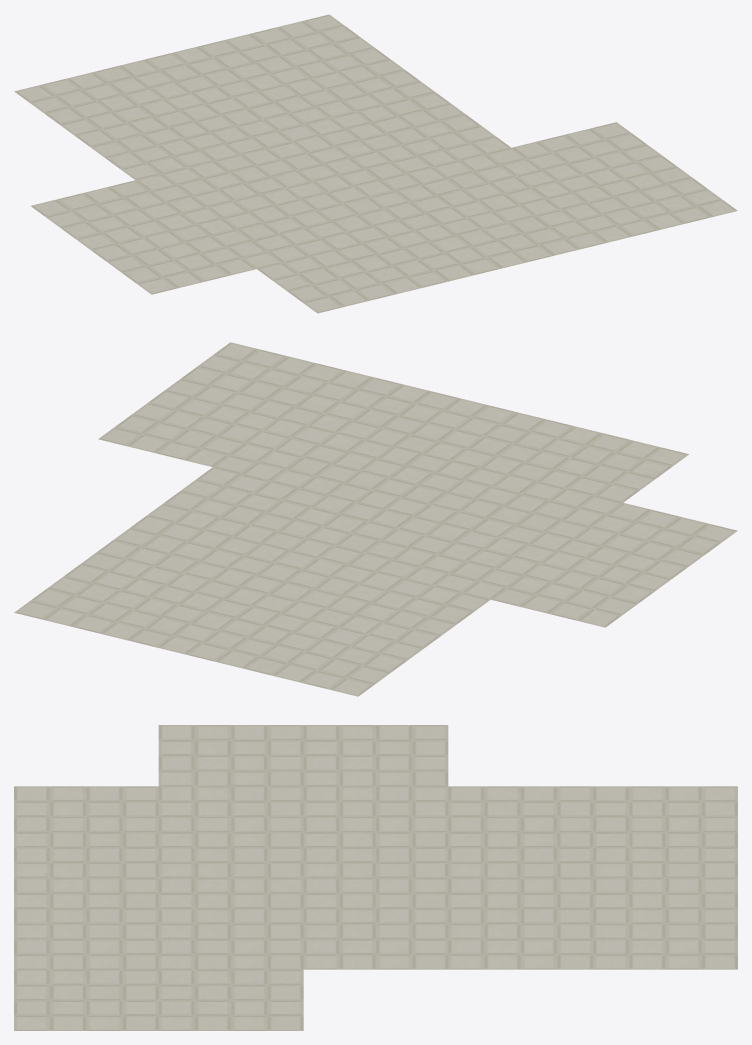
Rendered from Homeworld_Interior_Fd_Room_E_Floor_01_Vo.fbx.
3 views of the same model, one above another, from view 1: azimuth 30°, elevation 25°; view 2: azimuth 150°, elevation 25°; view 3: azimuth 270°, elevation 25° (orthographic). The views are drawn at different scales.
Parts seen in each view (by area): view 1: Homeworld_Interior_Fd_Room_Floor_01_Vo (×19); view 2: Homeworld_Interior_Fd_Room_Floor_01_Vo (×19); view 3: Homeworld_Interior_Fd_Room_Floor_01_Vo (×19).
Part boxes in pixels (box(x1,y1,x2,y2)): Homeworld_Interior_Fd_Room_Floor_01_Vo (×19): box(14, 14, 737, 313); Homeworld_Interior_Fd_Room_Floor_01_Vo (×19): box(14, 342, 737, 696); Homeworld_Interior_Fd_Room_Floor_01_Vo (×19): box(14, 725, 737, 1030).
Size of the model in its own units: 25 by 1.27e-06 by 25.
